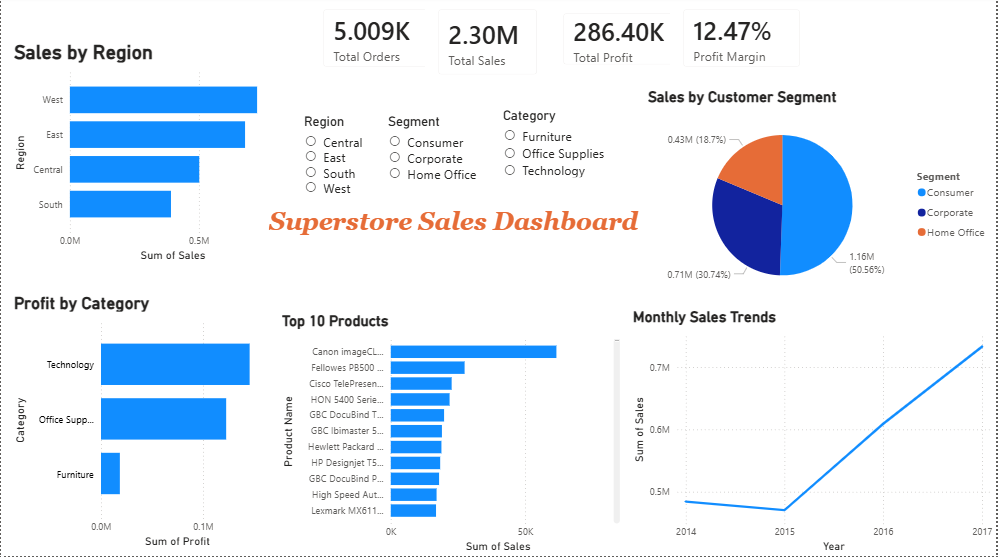

The page's visual inventory and layout, read from the dashboard file:
{"tool":"powerbi","page":{"name":"Page 1","canvas":[1280,720],"ordinal":0},"visuals":[{"type":"cardVisual","fields":{"Data":["Superstore.Total Orders"]},"box":[397.4,0,168.5,108],"z":0},{"type":"cardVisual","fields":{"Data":["Superstore.Total Profit"]},"box":[706.1,5.5,189.9,100.5],"z":1000},{"type":"cardVisual","fields":{"Data":["Superstore.Total Sales"]},"box":[544.9,0,161.6,118.7],"z":2000},{"type":"barChart","title":"Sales by Region","fields":{"Y":["Sum(Superstore.Sales)"],"Category":["Superstore.Region"]},"box":[11.5,56.2,361.4,289.4],"z":3000},{"type":"barChart","title":"Profit by Category","fields":{"Y":["Sum(Superstore.Profit)"],"Category":["Superstore.Category"]},"box":[11,381.2,333.1,331.7],"z":4000},{"type":"lineChart","title":"Monthly Sales Trends","fields":{"Y":["Sum(Superstore.Sales)"],"Category":["Superstore.Order Date.Variation.Date Hierarchy.Year","Superstore.Order Date.Variation.Date Hierarchy.Quarter","Superstore.Order Date.Variation.Date Hierarchy.Month","Superstore.Order Date.Variation.Date Hierarchy.Day"]},"box":[807.9,400.5,472.1,319.3],"z":5000},{"type":"barChart","title":"Top 10 Products","fields":{"Category":["Superstore.Product Name"],"Y":["Sum(Superstore.Sales)"]},"box":[356.5,406,444.6,313.8],"z":6000},{"type":"pieChart","title":"Sales by Customer Segment","fields":{"Y":["Sum(Superstore.Sales)"],"Category":["Superstore.Segment"]},"box":[827.2,118.4,452.8,279.4],"z":7000},{"type":"listSlicer","fields":{"Values":["Superstore.Region"]},"box":[384,151.4,108.7,194.1],"z":8000},{"type":"listSlicer","fields":{"Values":["Superstore.Segment"]},"box":[492.7,151.4,147.3,202.3],"z":9000},{"type":"listSlicer","fields":{"Values":["Superstore.Category"]},"box":[640,144.5,152.8,206.5],"z":10000},{"type":"textbox","box":[339.8,267.8,519.8,86.4],"z":11000},{"type":"cardVisual","fields":{"Data":["Superstore.Profit Margin"]},"box":[859.5,0,184.5,108.7],"z":12000}]}

Visuals, with their boxes in screenshot pixels (x1, y1, x2, y2), scaled from the page's 1280x720 canvas onto the 999x557 screenshot:
cardVisual - Superstore.Total Orders: l=310, t=0, r=442, b=84
cardVisual - Superstore.Total Profit: l=551, t=4, r=699, b=82
cardVisual - Superstore.Total Sales: l=425, t=0, r=551, b=92
"Sales by Region" barChart: l=9, t=43, r=291, b=267
"Profit by Category" barChart: l=9, t=295, r=269, b=552
"Monthly Sales Trends" lineChart: l=631, t=310, r=998, b=556
"Top 10 Products" barChart: l=278, t=314, r=625, b=556
"Sales by Customer Segment" pieChart: l=646, t=92, r=998, b=308
listSlicer - Superstore.Region: l=300, t=117, r=385, b=267
listSlicer - Superstore.Segment: l=385, t=117, r=500, b=274
listSlicer - Superstore.Category: l=500, t=112, r=619, b=272
textbox: l=265, t=207, r=671, b=274
cardVisual - Superstore.Profit Margin: l=671, t=0, r=815, b=84
